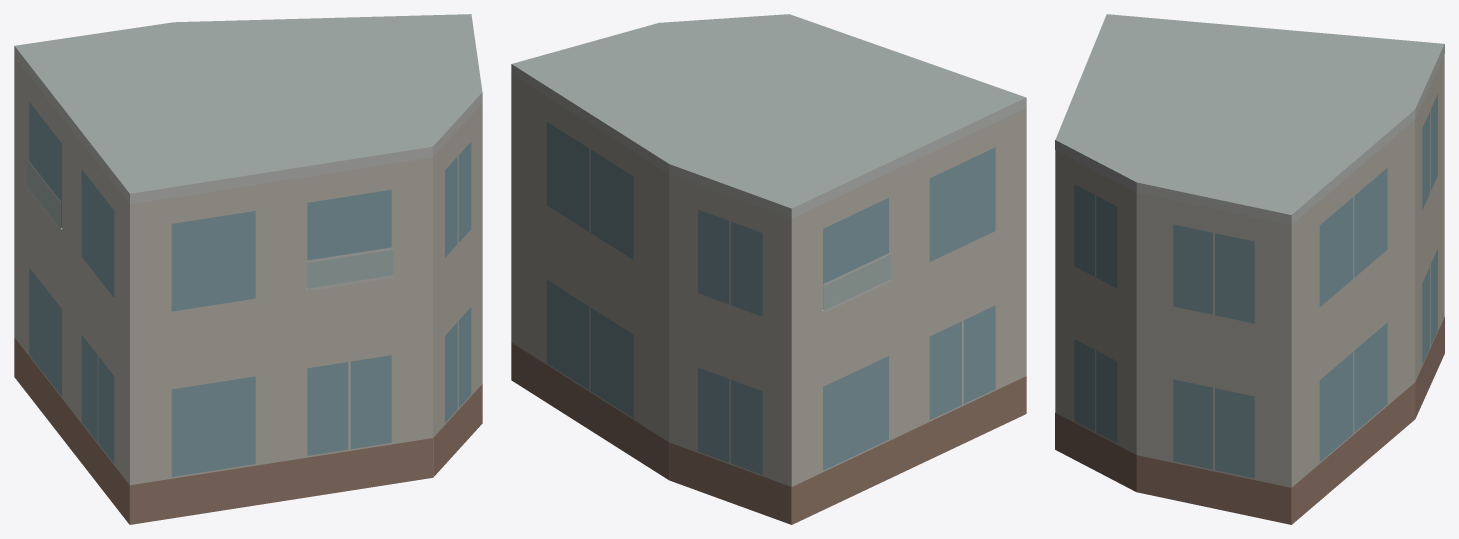
File: survey-upis-32747859.glb
The picture shows the model from 3 angles, left to right: view 1: azimuth 30°, elevation 25°; view 2: azimuth 150°, elevation 25°; view 3: azimuth 270°, elevation 25°; orthographic projection. The views are drawn at different scales.
Visible parts, largest first — view 1: survey-upis-32747859.tmp; view 2: survey-upis-32747859.tmp; view 3: survey-upis-32747859.tmp.
Part boxes in pixels (<box>): survey-upis-32747859.tmp: <box>14,14,482,524</box>; survey-upis-32747859.tmp: <box>511,14,1026,524</box>; survey-upis-32747859.tmp: <box>1055,14,1444,524</box>.
Bounding box in the file's own units: 10.59 × 7.6 × 8.67.
